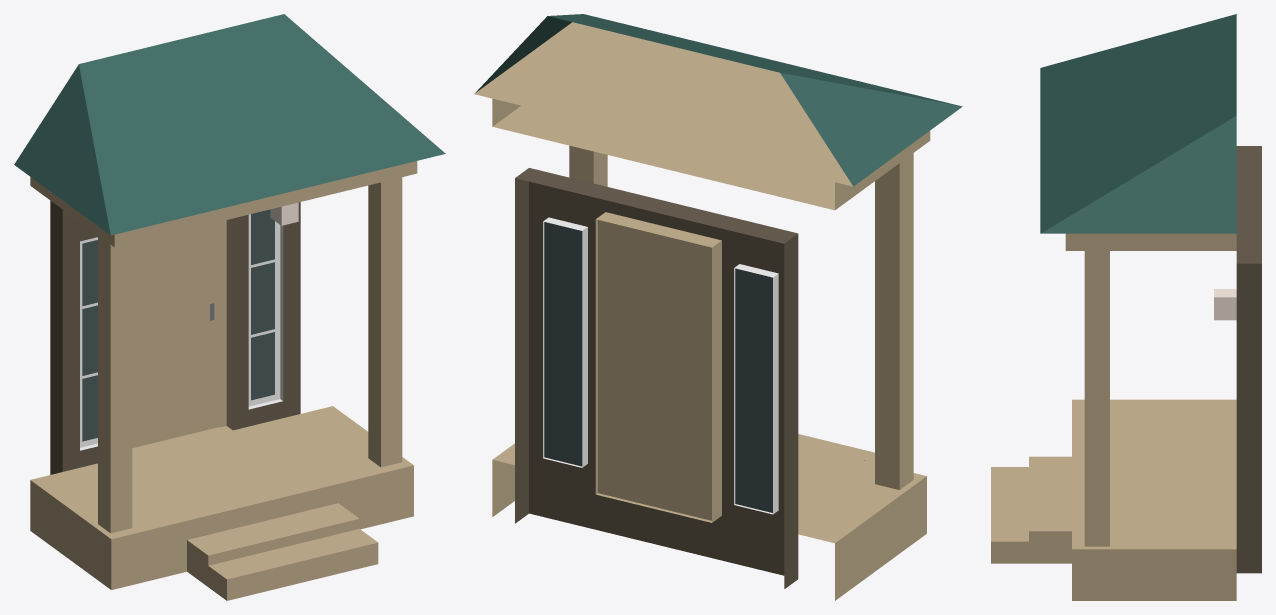
File: entrance.fbx
The picture shows the model from 3 angles, left to right: view 1: azimuth 30°, elevation 25°; view 2: azimuth 150°, elevation 25°; view 3: azimuth 270°, elevation 25°; orthographic projection. The views are drawn at different scales.
Parts seen in each view (by area): view 1: a2015/400/entrance; view 2: a2015/400/entrance; view 3: a2015/400/entrance.
Boxes of the visible parts, bbox=[...] form: a2015/400/entrance: bbox=[14, 14, 445, 600]; a2015/400/entrance: bbox=[474, 14, 962, 600]; a2015/400/entrance: bbox=[991, 14, 1261, 600].
Bounding box in the file's own units: 3.1 × 4.02 × 2.14.
